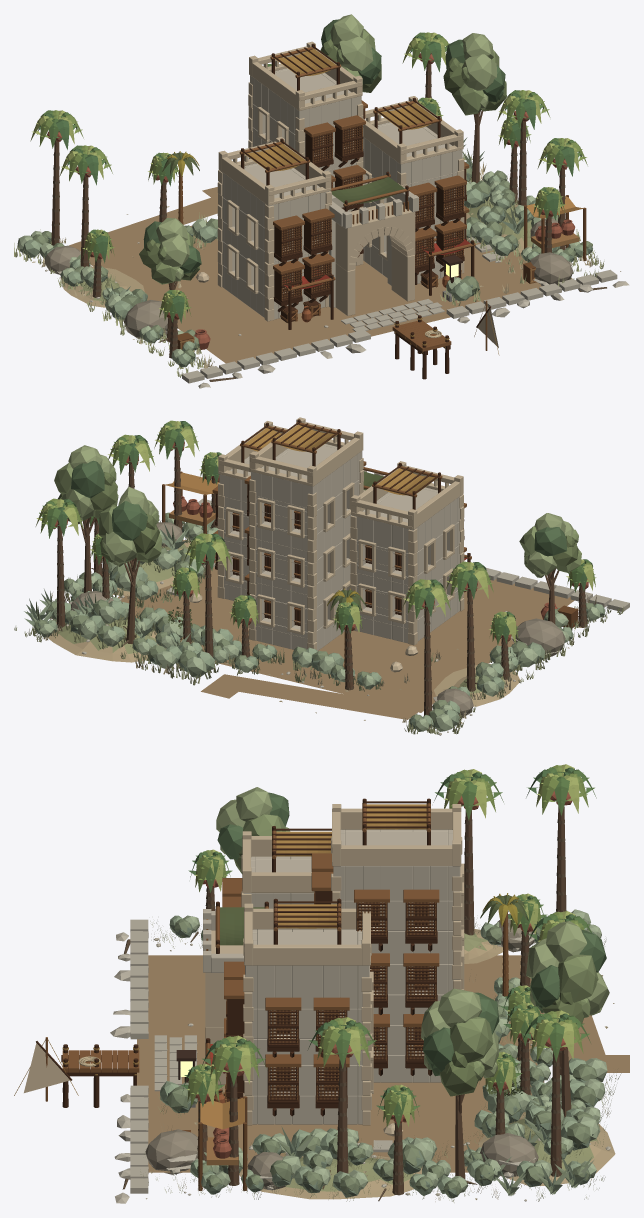
File: jeddah.glb
3 views of the same model, one above another, from view 1: azimuth 30°, elevation 25°; view 2: azimuth 150°, elevation 25°; view 3: azimuth 270°, elevation 25° (orthographic). The views are drawn at different scales.
Parts seen in each view (by area): view 1: jeddah; view 2: jeddah; view 3: jeddah.
Boxes of the visible parts, bbox=[...] form: jeddah: bbox=[14, 14, 629, 388]; jeddah: bbox=[14, 417, 629, 735]; jeddah: bbox=[14, 764, 629, 1203].
Bounding box in the file's own units: 7.78 × 3.69 × 7.18.
